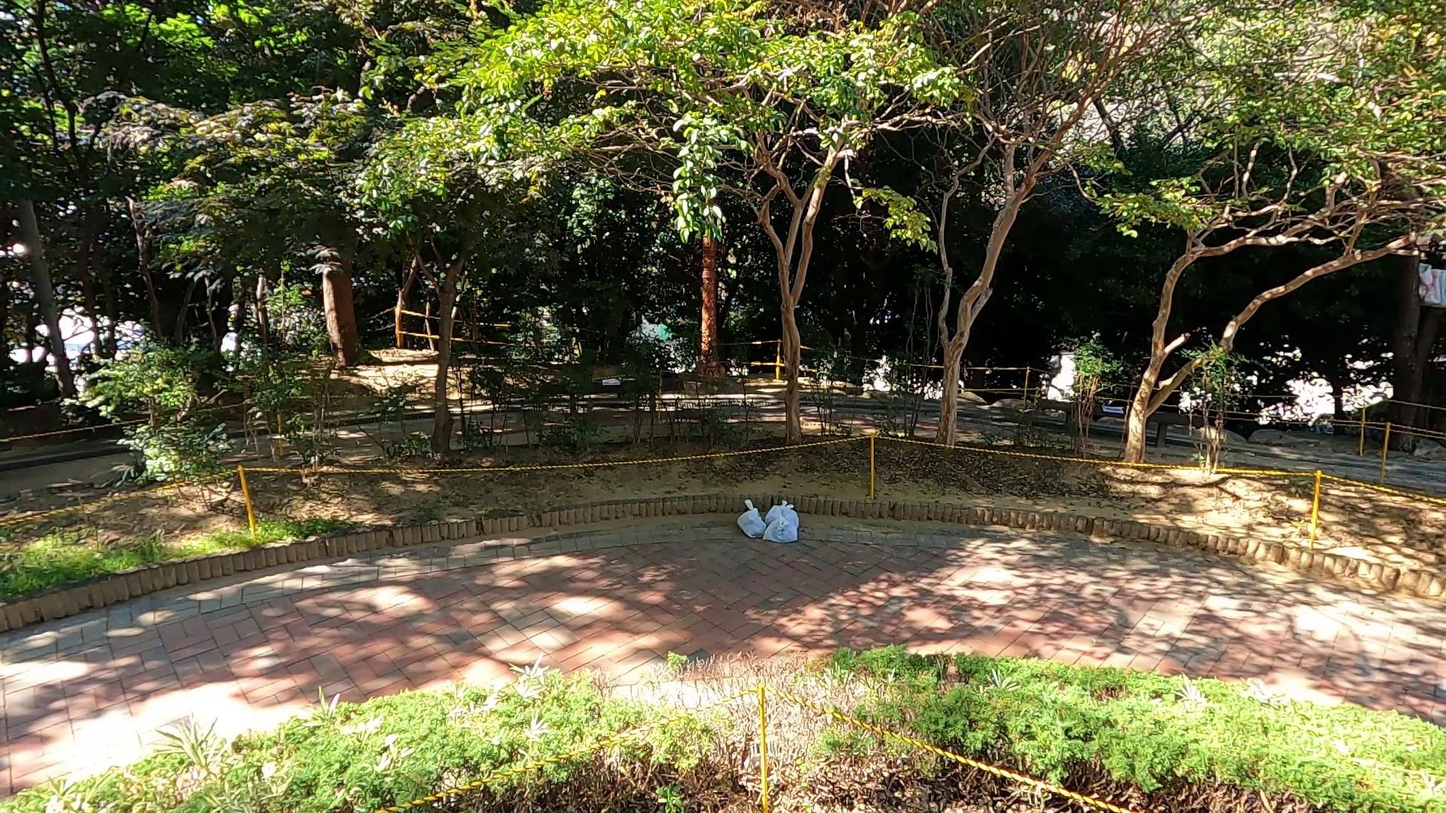trash: (735, 498, 770, 543), (761, 511, 800, 545), (763, 499, 802, 530)
